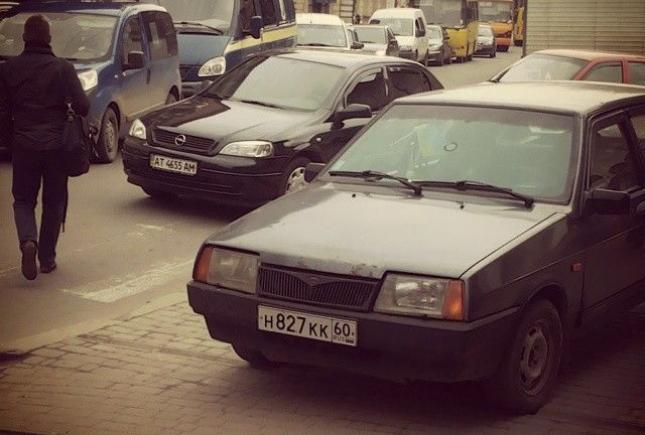license-plateSW: (256, 306, 357, 347), (151, 156, 199, 174)
